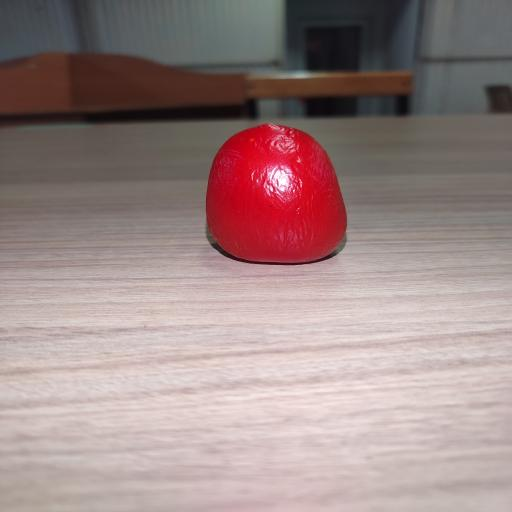spoiled: (206, 124, 347, 263)
